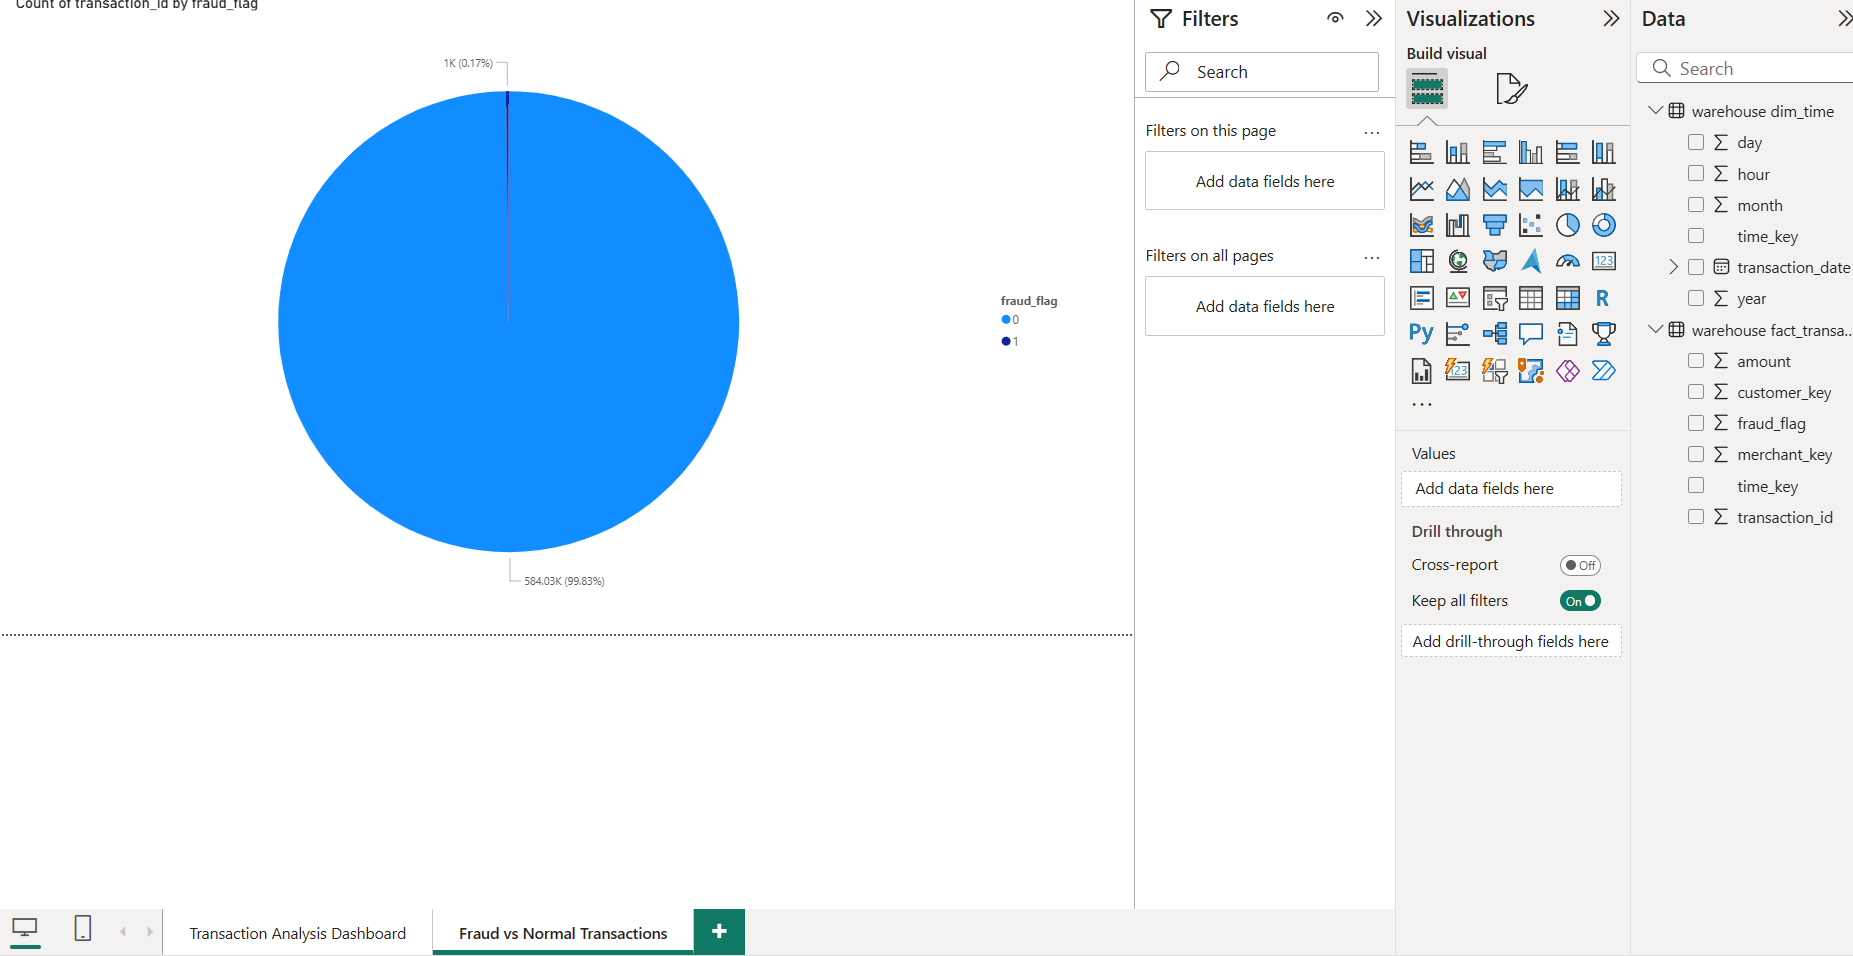

The dashboard page shown, as its layout file describes it:
{"tool":"powerbi","page":{"name":"Fraud vs Normal Transactions","canvas":[1280,720],"ordinal":1},"visuals":[{"type":"pieChart","fields":{"Category":["warehouse fact_transactions.fraud_flag"],"Y":["CountNonNull(warehouse fact_transactions.transaction_id)"]},"box":[16,0,1200,720],"z":0}]}

Visuals, with their boxes on the page's 1280x720 design canvas (x1, y1, x2, y2). These are canvas units, not pixel positions in the 1853x956 screenshot, which may show the page scaled, cropped or inside an application window:
pieChart - warehouse fact_transactions.fraud_flag x CountNonNull(warehouse fact_transactions.transaction_id): 16, 0, 1216, 720
